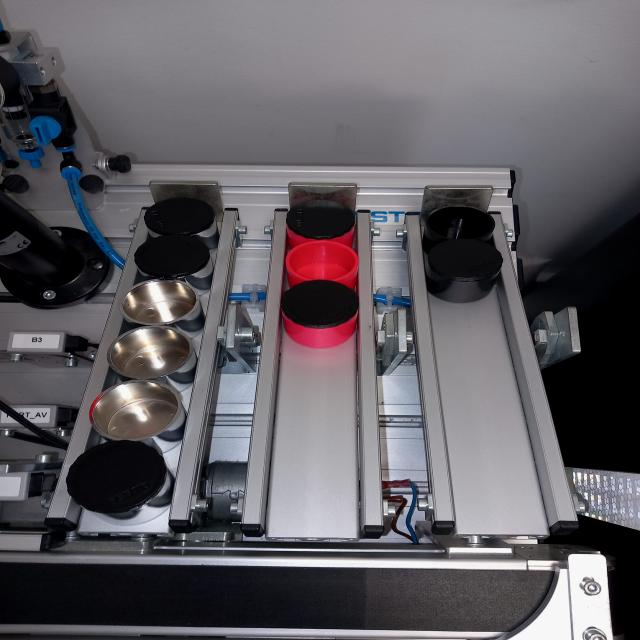NoLid: (88, 382, 187, 448), (284, 239, 376, 294), (110, 329, 195, 380), (118, 278, 207, 324), (425, 206, 500, 240)
Workpiece: (66, 447, 175, 519), (425, 243, 507, 305), (286, 286, 360, 346), (142, 197, 224, 244), (134, 240, 223, 282), (286, 202, 364, 244)
